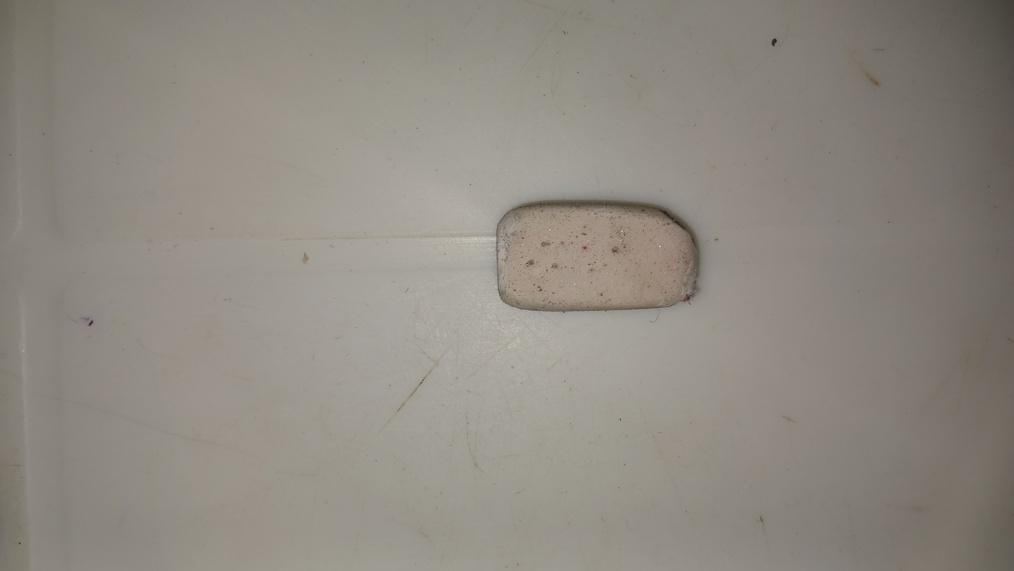Eraser: (497, 201, 703, 307)
